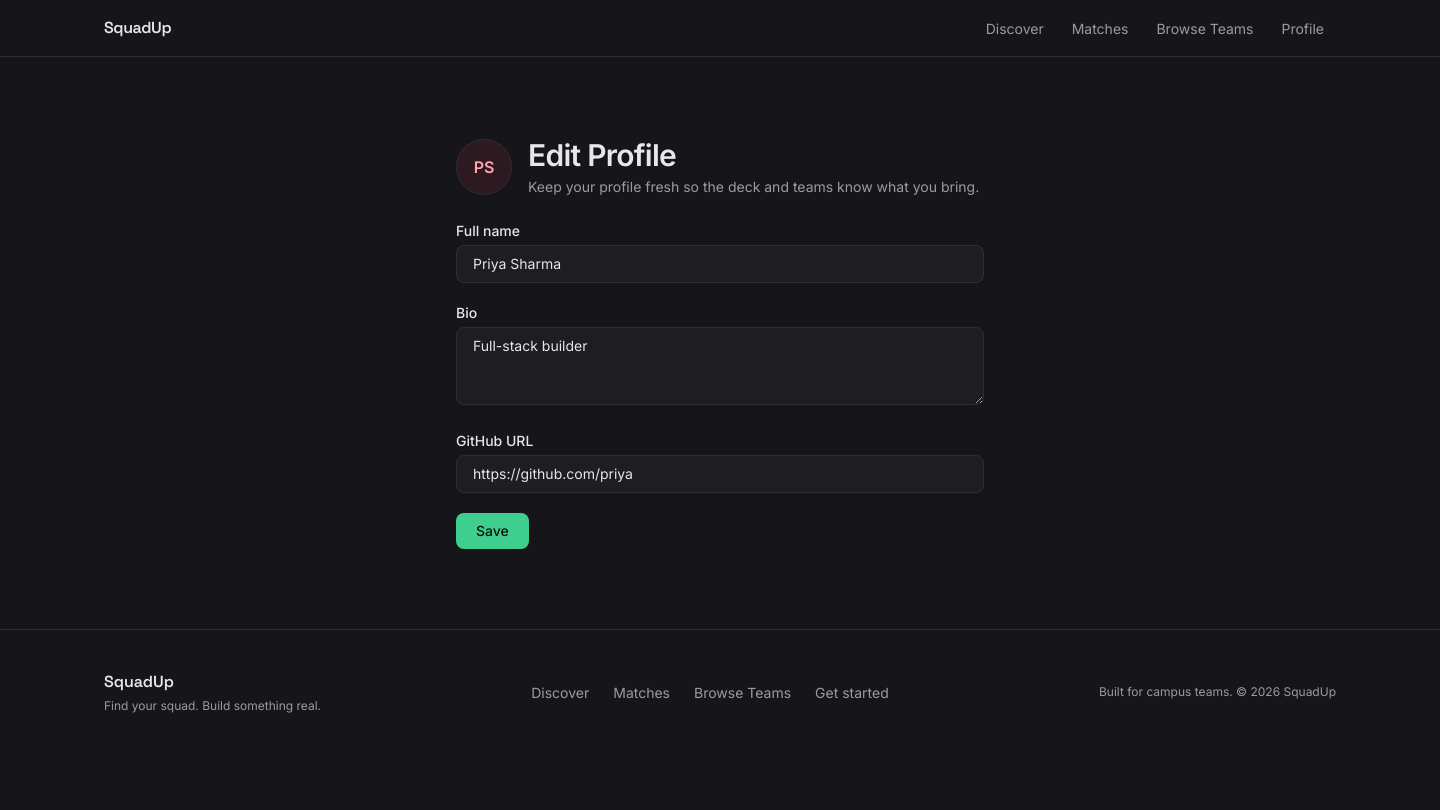
Scenario: profile edit page — Flow 1 'edit own profile' › saves edits via updateProfile
Step 1. Replace the text in the field labelled "Full name" with "P. Sharma" → (720, 264), box [456,245,984,283]
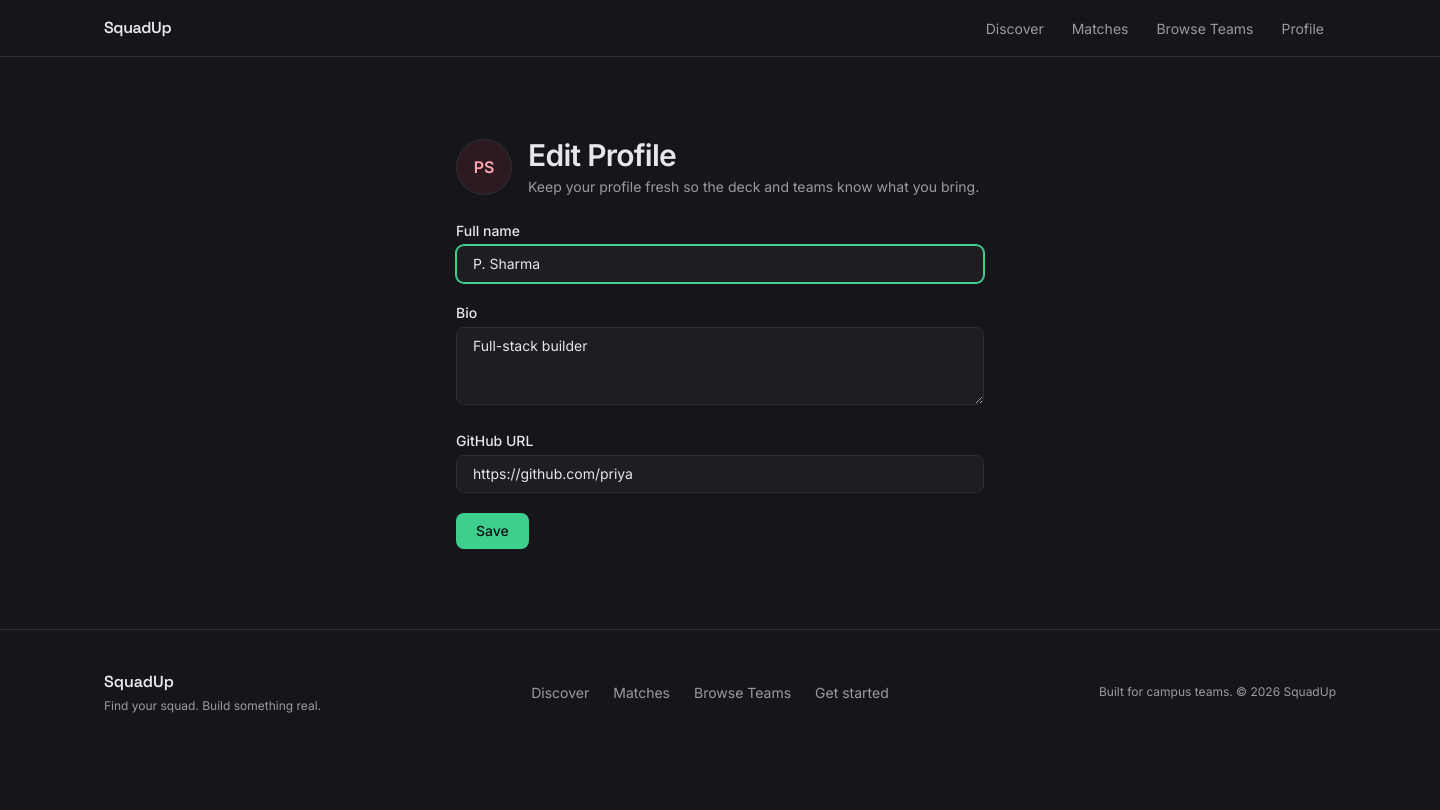
Step 2. Click the button "Save" → (492, 531), box [456,513,529,549]
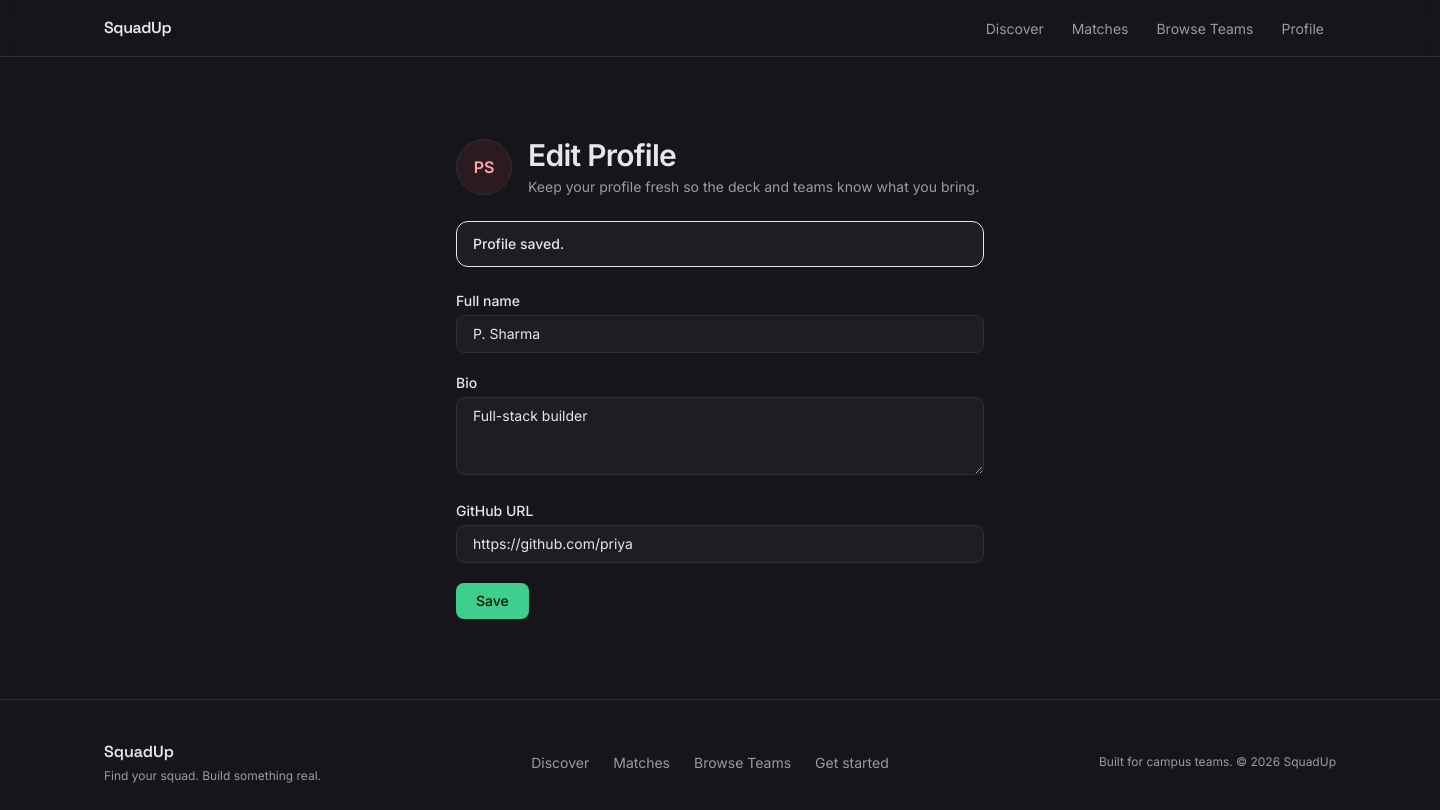
expect the message shows "saved": met, box [473,235,564,252]
